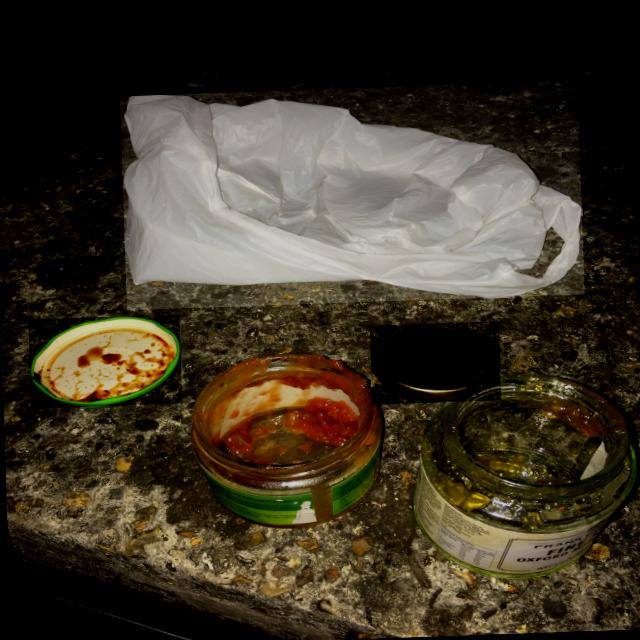Lid: (30, 317, 180, 407), (371, 324, 500, 402)
Single-use carrier bag: (125, 95, 582, 297)
